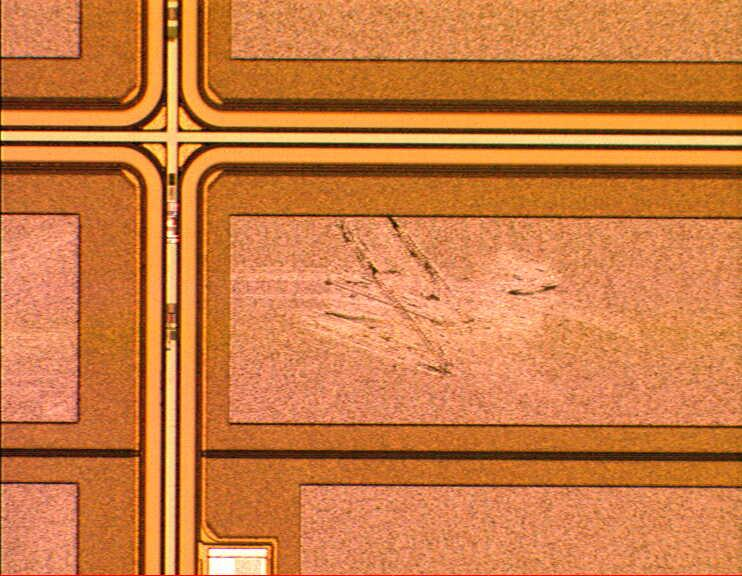SCRATCH: (197, 213, 644, 380)
